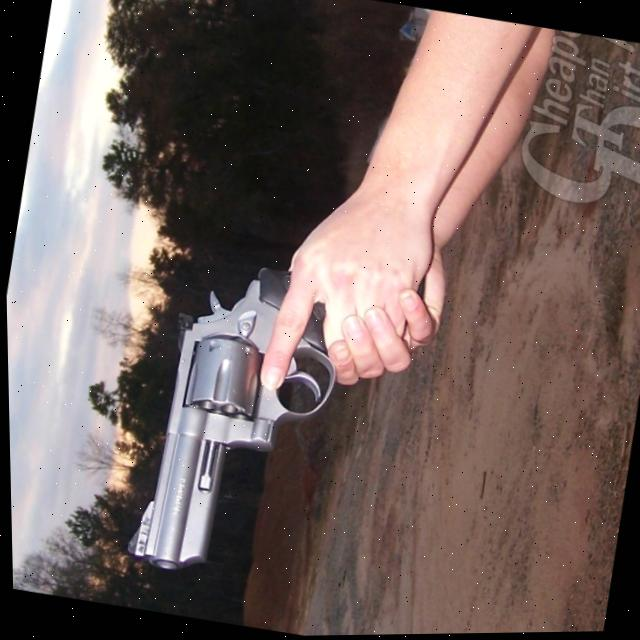pistol: (111, 246, 357, 597)
